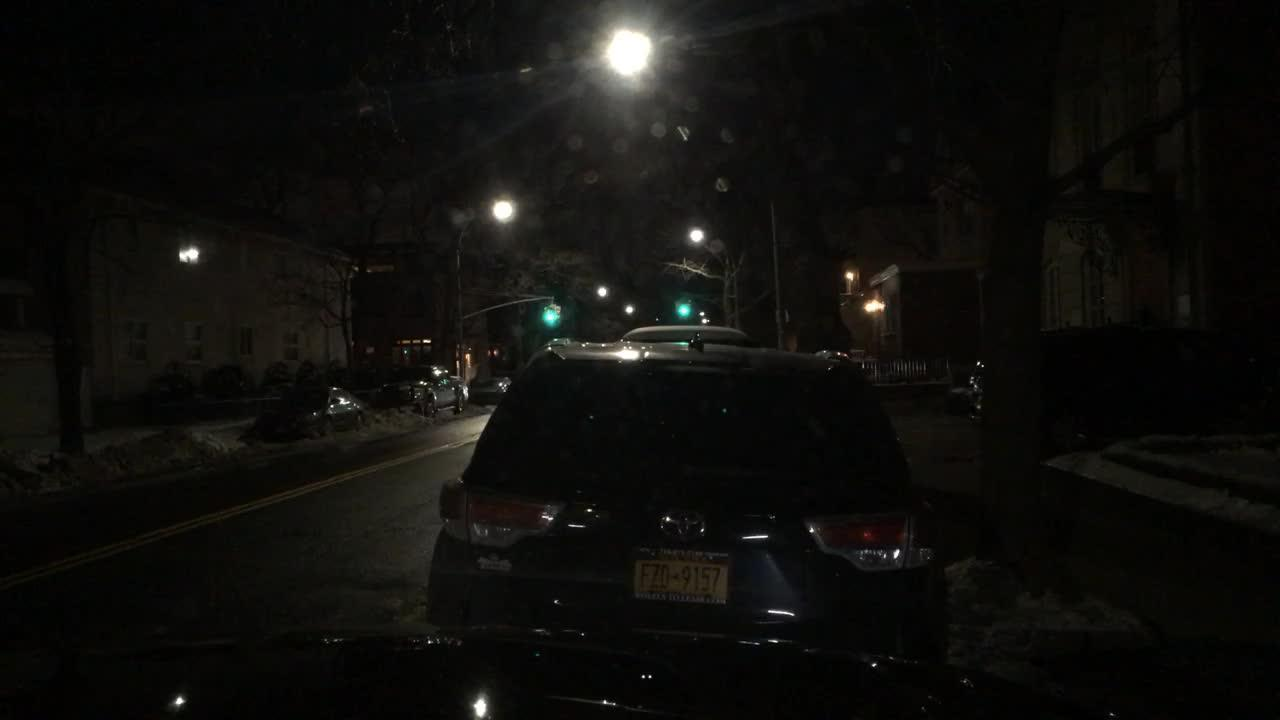Toyota: (656, 501, 717, 548)
